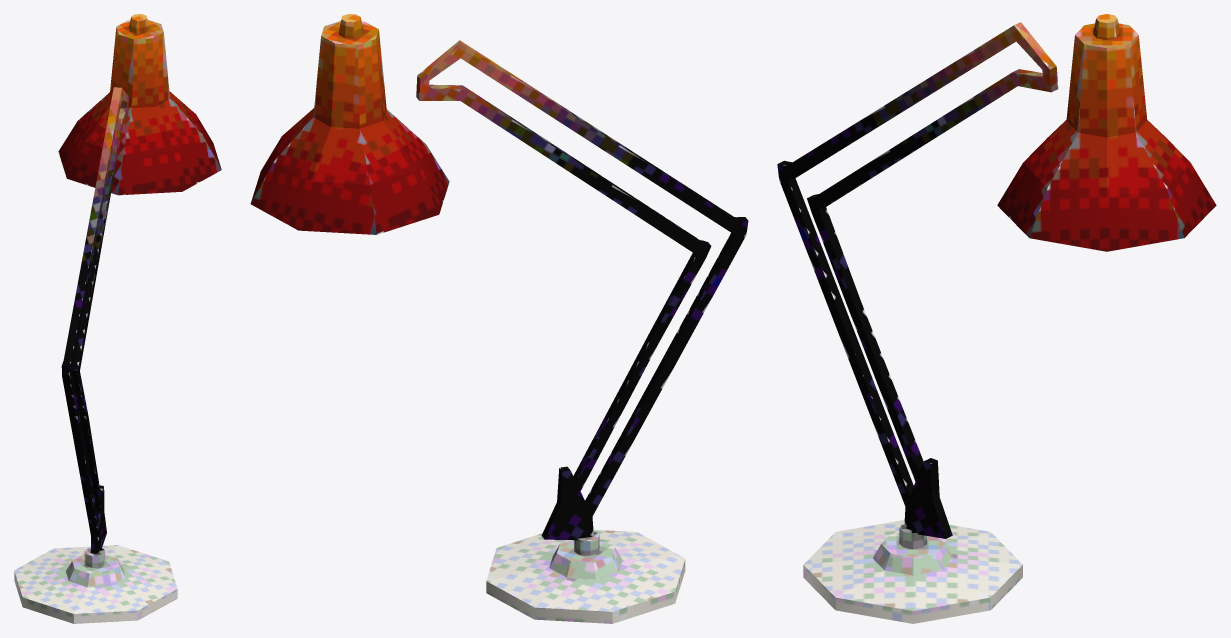
File: Lampara.fbx
3 views of the same model, side by side, from view 1: azimuth 30°, elevation 25°; view 2: azimuth 150°, elevation 25°; view 3: azimuth 270°, elevation 25° (orthographic). The views are drawn at different scales.
Parts seen in each view (by area): view 1: pCube23; view 2: pCube23; view 3: pCube23.
Part boxes in pixels (box(x1,y1,x2,y2)): pCube23: box(14, 14, 221, 623); pCube23: box(250, 14, 748, 623); pCube23: box(777, 14, 1216, 623).
Bounding box in the file's own units: 1.98 × 3.35 × 2.1.
